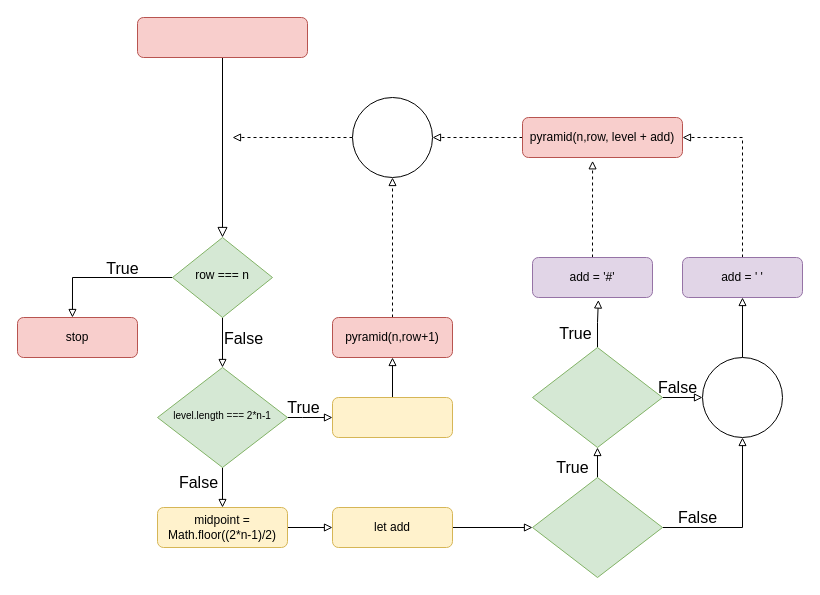
Image size: 820x595. Some labels were removed from this diagram. The shapes that lost their labels are listed below. From the top down, each one's centre as x and y in pixels, then its label:
the point at 222,37: pyramid(n, row=0, level='')
the point at 392,417: console.log(level)
the point at 597,397: midpoint + row >= level.length
the point at 597,527: midpoint - row <= level.length
